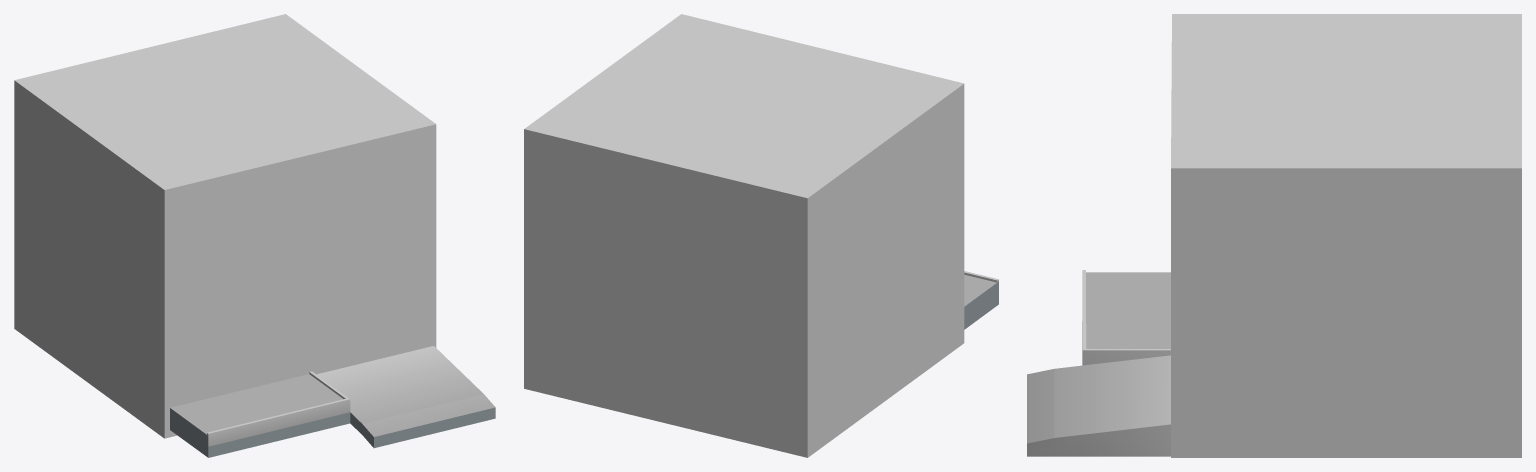
The model's file is NPCRumah4 22.fbx.
The picture shows the model from 3 angles, left to right: view 1: azimuth 30°, elevation 25°; view 2: azimuth 150°, elevation 25°; view 3: azimuth 270°, elevation 25°; orthographic projection. The views are drawn at different scales.
Visible parts, largest first — view 1: BoxColiderNPC4_22, RoadNPC4_22_LOD0; view 2: BoxColiderNPC4_22, RoadNPC4_22_LOD0; view 3: BoxColiderNPC4_22, RoadNPC4_22_LOD0.
Boxes of the visible parts, x1,y1,x2,y2 form: BoxColiderNPC4_22: [14, 14, 436, 438]; RoadNPC4_22_LOD0: [170, 346, 495, 457]; BoxColiderNPC4_22: [524, 14, 964, 457]; RoadNPC4_22_LOD0: [964, 271, 998, 329]; BoxColiderNPC4_22: [1171, 14, 1521, 457]; RoadNPC4_22_LOD0: [1027, 270, 1170, 456].
Size of what is drawn, in the model's own units: 1854 by 1622 by 2511.
